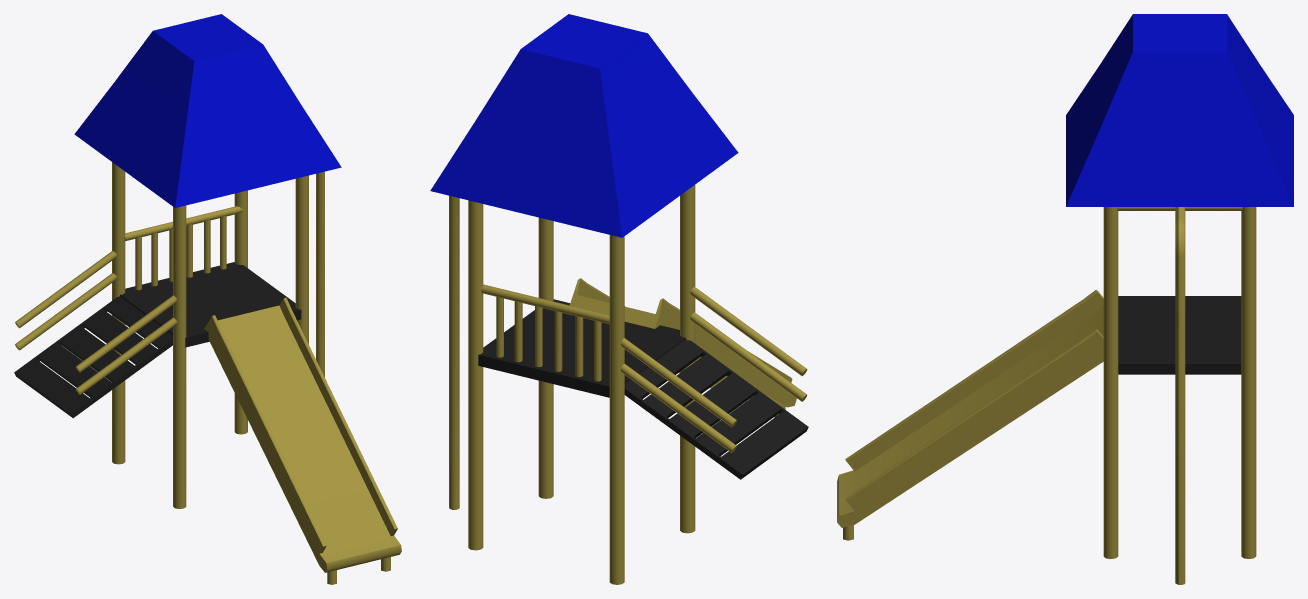
File: ART-MOD-A-Castle-Slide-002.FBX
The picture shows the model from 3 angles, left to right: view 1: azimuth 30°, elevation 25°; view 2: azimuth 150°, elevation 25°; view 3: azimuth 270°, elevation 25°; orthographic projection. The views are drawn at different scales.
Parts seen in each view (by area): view 1: Box016; view 2: Box016; view 3: Box016.
Boxes of the visible parts, bbox=[...] form: Box016: bbox=[14, 14, 401, 584]; Box016: bbox=[430, 14, 808, 584]; Box016: bbox=[837, 14, 1293, 584].
Size of the model in its own units: 208 by 304 by 258.
